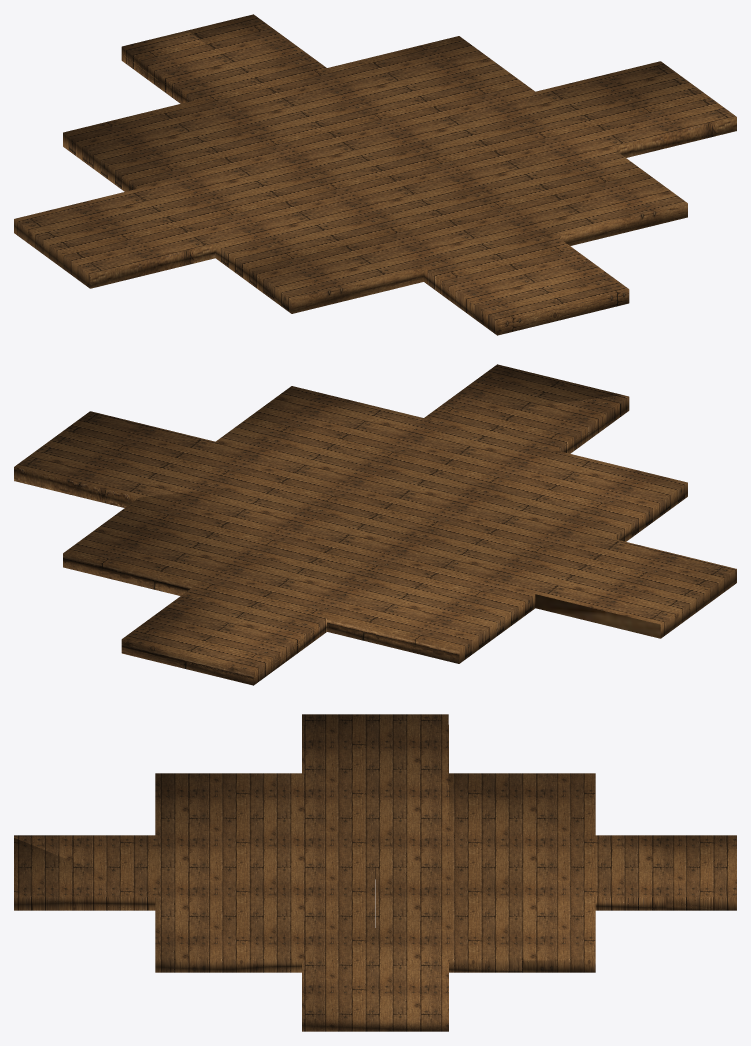
The model's file is Livingroom_Base_Z_Roof_Sub_Drop.fbx.
3 renders of one model, top to bottom at view 1: azimuth 30°, elevation 25°; view 2: azimuth 150°, elevation 25°; view 3: azimuth 270°, elevation 25°, orthographic. The views are drawn at different scales.
Parts seen in each view (by area): view 1: Livingroom_Base_Z_Roof_Sub.001_cell, Livingroom_Base_Z_Roof_Sub.001_cell.005, Livingroom_Base_Z_Roof_Sub.001_cell.007, Livingroom_Base_Z_Roof_Sub.001_cell.006, Livingroom_Base_Z_Roof_Sub.001_cell.003, Livingroom_Base_Z_Roof_Sub.001_cell.002, Livingroom_Base_Z_Roof_Sub.001_cell.008, Livingroom_Base_Z_Roof_Sub.001_cell.001, Livingroom_Base_Z_Roof_Sub.001_cell.011, Livingroom_Base_Z_Roof_Sub.001_cell.009, Livingroom_Base_Z_Roof_Sub.001_cell.010; view 2: Livingroom_Base_Z_Roof_Sub.001_cell, Livingroom_Base_Z_Roof_Sub.001_cell.005, Livingroom_Base_Z_Roof_Sub.001_cell.007, Livingroom_Base_Z_Roof_Sub.001_cell.003, Livingroom_Base_Z_Roof_Sub.001_cell.006, Livingroom_Base_Z_Roof_Sub.001_cell.002, Livingroom_Base_Z_Roof_Sub.001_cell.008, Livingroom_Base_Z_Roof_Sub.001_cell.001, Livingroom_Base_Z_Roof_Sub.001_cell.011, Livingroom_Base_Z_Roof_Sub.001_cell.010, Livingroom_Base_Z_Roof_Sub.001_cell.009, Livingroom_Base_Z_Roof_Sub.001_cell.004; view 3: Livingroom_Base_Z_Roof_Sub.001_cell, Livingroom_Base_Z_Roof_Sub.001_cell.007, Livingroom_Base_Z_Roof_Sub.001_cell.003, Livingroom_Base_Z_Roof_Sub.001_cell.005, Livingroom_Base_Z_Roof_Sub.001_cell.006, Livingroom_Base_Z_Roof_Sub.001_cell.002, Livingroom_Base_Z_Roof_Sub.001_cell.008, Livingroom_Base_Z_Roof_Sub.001_cell.001, Livingroom_Base_Z_Roof_Sub.001_cell.011, Livingroom_Base_Z_Roof_Sub.001_cell.010, Livingroom_Base_Z_Roof_Sub.001_cell.009.
Part boxes in pixels (x1,y1,x2,y2): Livingroom_Base_Z_Roof_Sub.001_cell: (14,156,451,288); Livingroom_Base_Z_Roof_Sub.001_cell.005: (63,57,299,191); Livingroom_Base_Z_Roof_Sub.001_cell.007: (507,61,736,191); Livingroom_Base_Z_Roof_Sub.001_cell.006: (253,223,552,335); Livingroom_Base_Z_Roof_Sub.001_cell.003: (272,64,534,167); Livingroom_Base_Z_Roof_Sub.001_cell.002: (376,136,582,234); Livingroom_Base_Z_Roof_Sub.001_cell.008: (225,36,497,112); Livingroom_Base_Z_Roof_Sub.001_cell.001: (501,234,629,334); Livingroom_Base_Z_Roof_Sub.001_cell.011: (556,175,687,245); Livingroom_Base_Z_Roof_Sub.001_cell.009: (121,30,223,79); Livingroom_Base_Z_Roof_Sub.001_cell.010: (188,14,289,57); Livingroom_Base_Z_Roof_Sub.001_cell: (375,462,736,638); Livingroom_Base_Z_Roof_Sub.001_cell.005: (225,562,535,663); Livingroom_Base_Z_Roof_Sub.001_cell.007: (14,411,319,507); Livingroom_Base_Z_Roof_Sub.001_cell.003: (102,486,402,573); Livingroom_Base_Z_Roof_Sub.001_cell.006: (424,395,687,523); Livingroom_Base_Z_Roof_Sub.001_cell.002: (244,418,450,517); Livingroom_Base_Z_Roof_Sub.001_cell.008: (63,525,299,628); Livingroom_Base_Z_Roof_Sub.001_cell.001: (420,364,623,419); Livingroom_Base_Z_Roof_Sub.001_cell.011: (254,386,420,429); Livingroom_Base_Z_Roof_Sub.001_cell.010: (121,612,223,669); Livingroom_Base_Z_Roof_Sub.001_cell.009: (187,628,290,678); Livingroom_Base_Z_Roof_Sub.001_cell.004: (187,652,290,685); Livingroom_Base_Z_Roof_Sub.001_cell: (228,714,448,878); Livingroom_Base_Z_Roof_Sub.001_cell.007: (228,928,449,1031); Livingroom_Base_Z_Roof_Sub.001_cell.003: (375,835,522,972); Livingroom_Base_Z_Roof_Sub.001_cell.005: (449,773,666,866); Livingroom_Base_Z_Roof_Sub.001_cell.006: (14,773,228,896); Livingroom_Base_Z_Roof_Sub.001_cell.002: (158,866,375,927); Livingroom_Base_Z_Roof_Sub.001_cell.008: (521,866,666,972); Livingroom_Base_Z_Roof_Sub.001_cell.001: (14,838,157,910); Livingroom_Base_Z_Roof_Sub.001_cell.011: (155,898,228,972); Livingroom_Base_Z_Roof_Sub.001_cell.010: (666,866,736,910); Livingroom_Base_Z_Roof_Sub.001_cell.009: (666,835,736,866).
Bounding box in the file's own units: 1512 × 31.48 × 1521.
